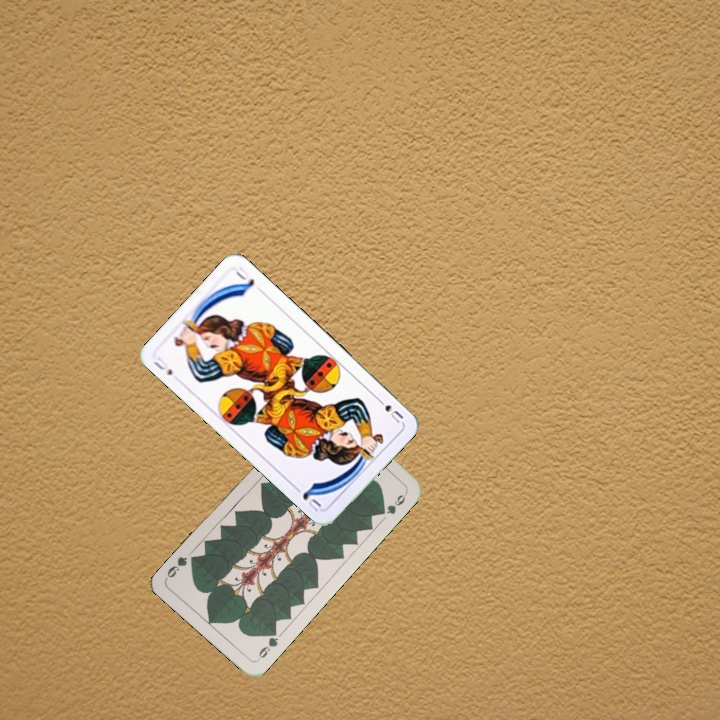G9: (253, 626, 281, 664)
SU: (372, 393, 406, 426), (149, 353, 175, 378)
